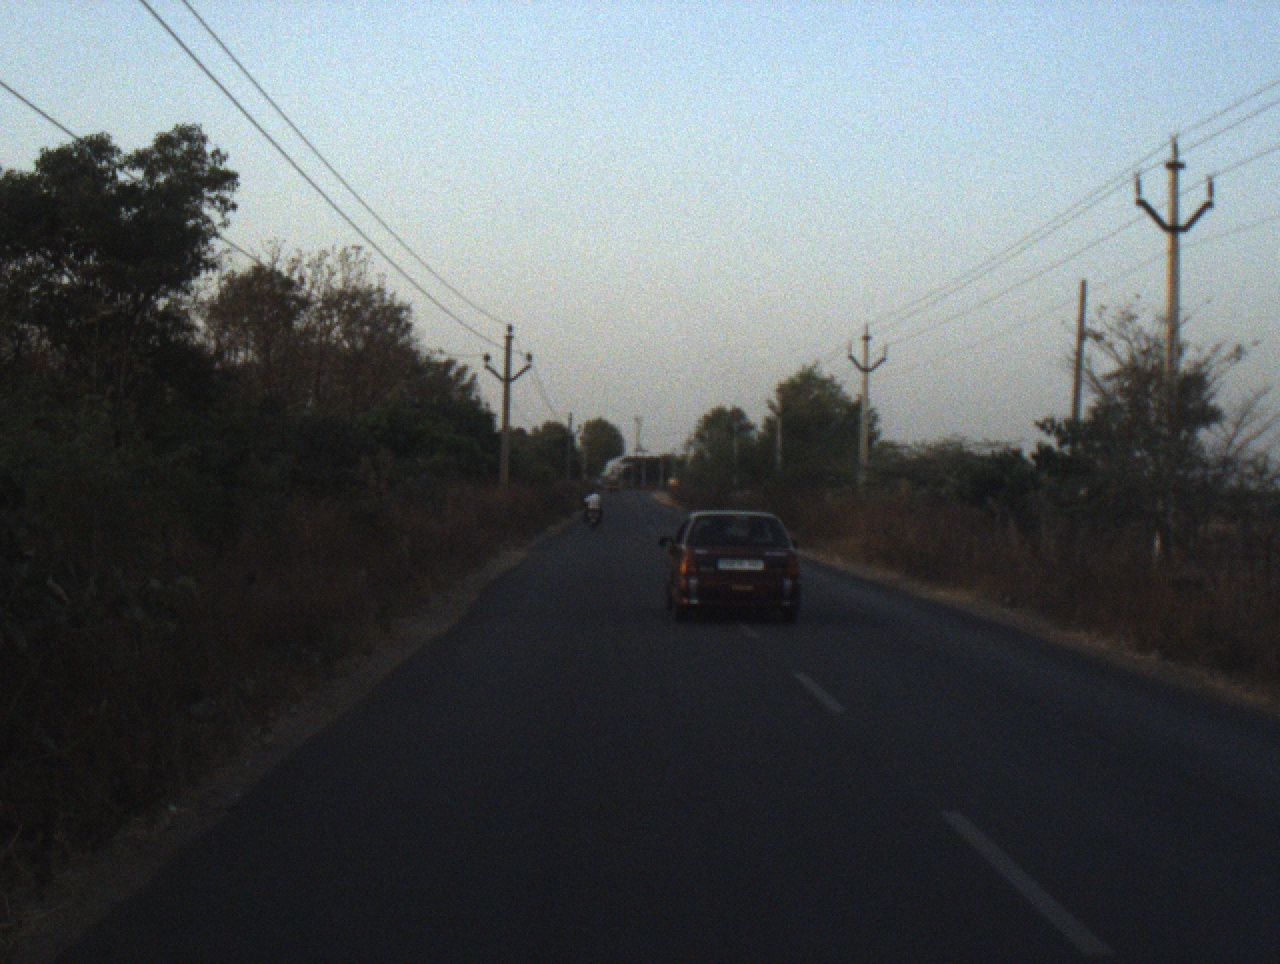autorickshaw: (605, 477, 619, 494)
car: (660, 503, 802, 634)
motorcycle: (587, 508, 601, 528)
rider: (583, 486, 604, 526)
